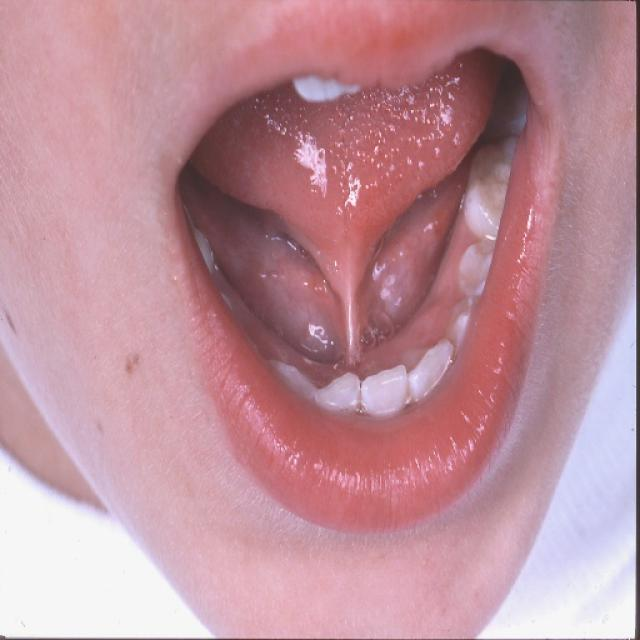processing_area: (186, 53, 512, 375)
